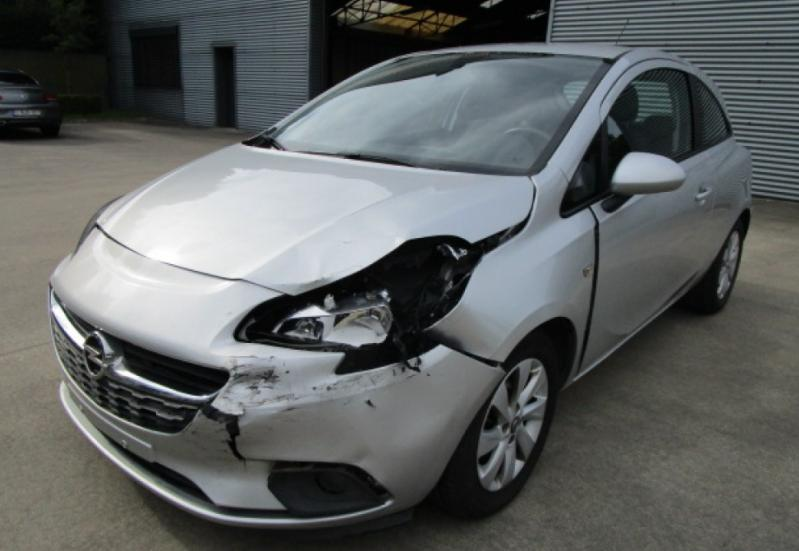Back-wheel: (699, 218, 745, 315)
Back-window: (699, 78, 732, 145)
Fender: (423, 161, 596, 387)
Front-bumper: (47, 225, 506, 530)
Front-door: (575, 59, 718, 380)
Front-wheel: (445, 337, 559, 521)
Front-window: (604, 67, 695, 185), (567, 145, 598, 208)
Grille: (48, 282, 231, 435)
Headlight: (233, 236, 474, 352), (74, 196, 121, 258)
Hood: (97, 142, 535, 296)
License-plate: (69, 384, 156, 462)
Mirror: (611, 152, 686, 194)
Quarter-panel: (702, 133, 753, 277)
Roof: (392, 42, 638, 58)
Windshield: (242, 51, 616, 177)
